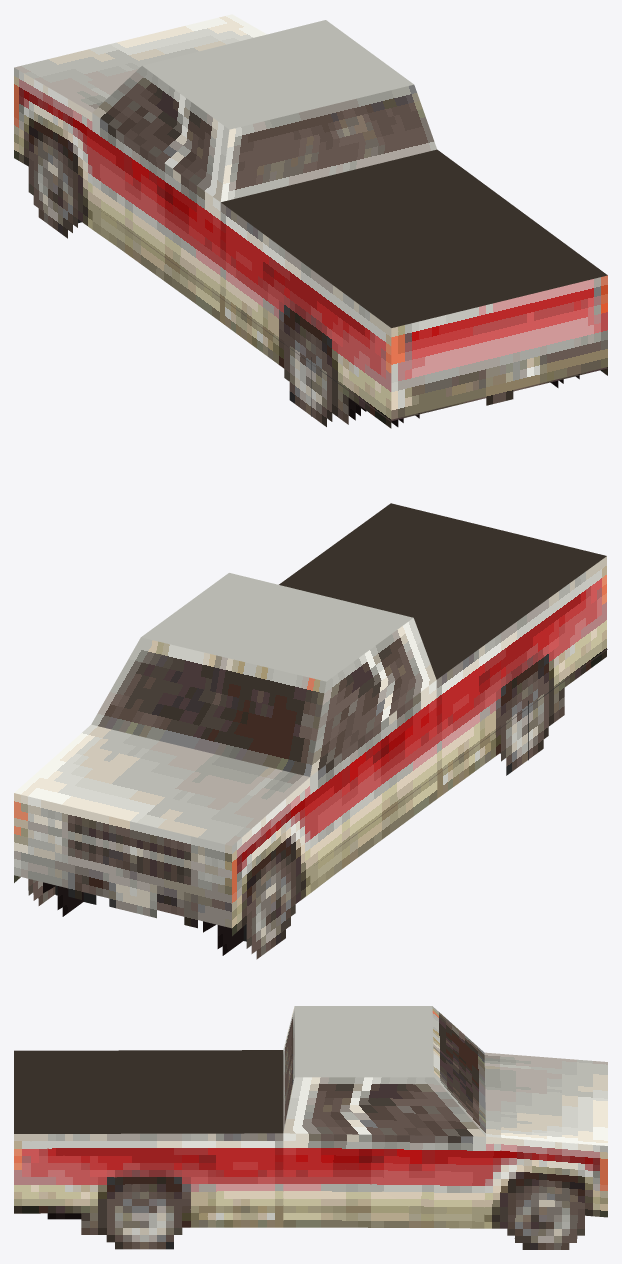
The model's file is car-pickup-plt1.glb.
3 views of the same model, one above another, from view 1: azimuth 30°, elevation 25°; view 2: azimuth 150°, elevation 25°; view 3: azimuth 270°, elevation 25° (orthographic). The views are drawn at different scales.
Visible parts, largest first — view 1: car-pickup-plt1; view 2: car-pickup-plt1; view 3: car-pickup-plt1.
Boxes of the visible parts, x1,y1,x2,y2 form: car-pickup-plt1: (14,14,607,428); car-pickup-plt1: (14,503,607,959); car-pickup-plt1: (14,1006,607,1249).
Bounding box in the file's own units: 1.94 × 1.79 × 5.79.
Materials: 15 (15 with a texture image).
